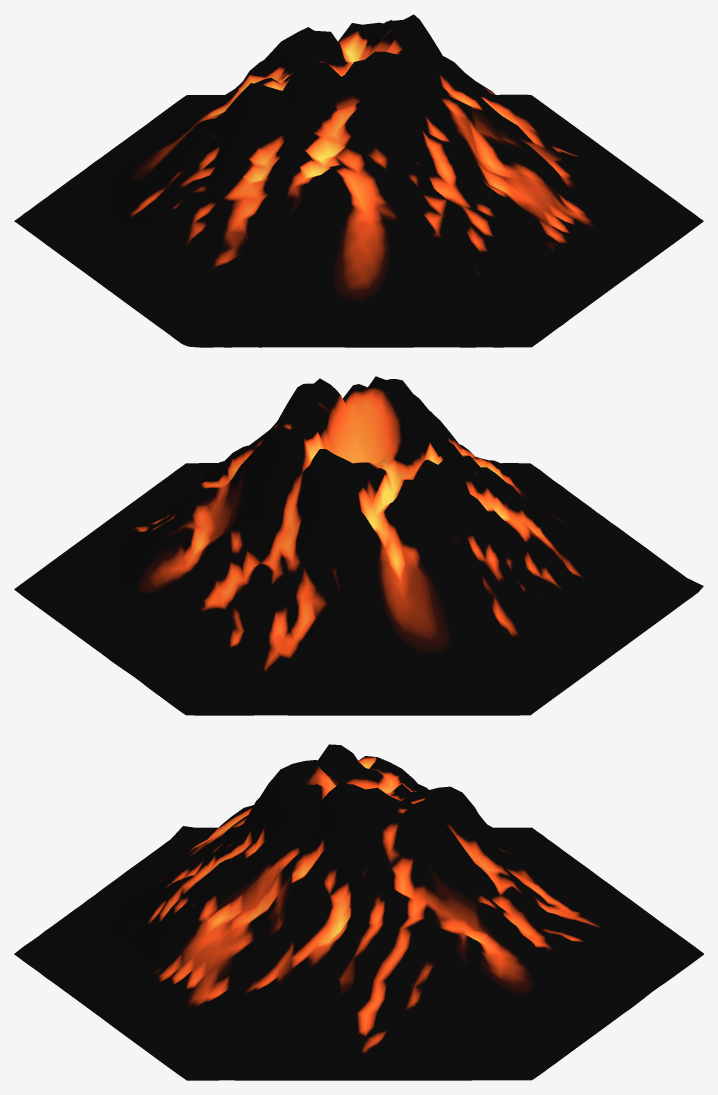
The model's file is volcano.glb.
3 views of the same model, one above another, from view 1: azimuth 30°, elevation 25°; view 2: azimuth 150°, elevation 25°; view 3: azimuth 270°, elevation 25° (orthographic).
Visible parts, largest first — view 1: lowpolyVolcan.001; view 2: lowpolyVolcan.001; view 3: lowpolyVolcan.001.
Part boxes in pixels (x1=…): lowpolyVolcan.001: x1=14, y1=14, x2=703, y2=347; lowpolyVolcan.001: x1=14, y1=376, x2=703, y2=715; lowpolyVolcan.001: x1=14, y1=744, x2=703, y2=1080.
Bounding box in the file's own units: 0.866 × 0.3092 × 0.9982.
1 material, 1 textured.
